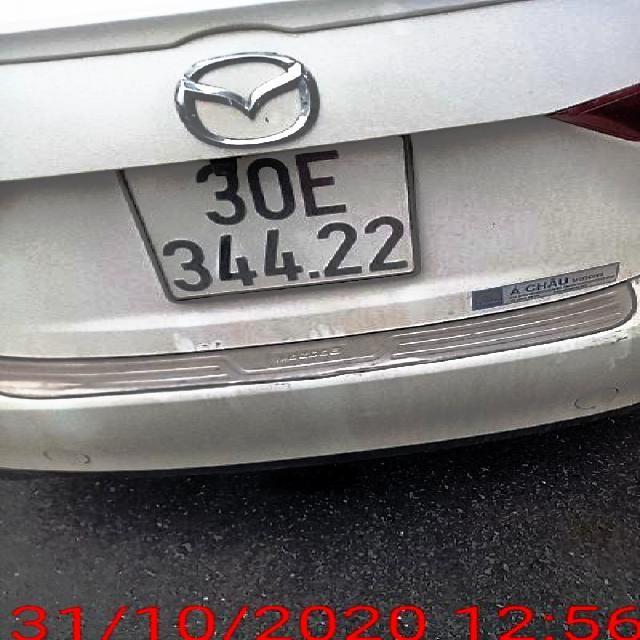license_plate: (118, 136, 425, 304)
